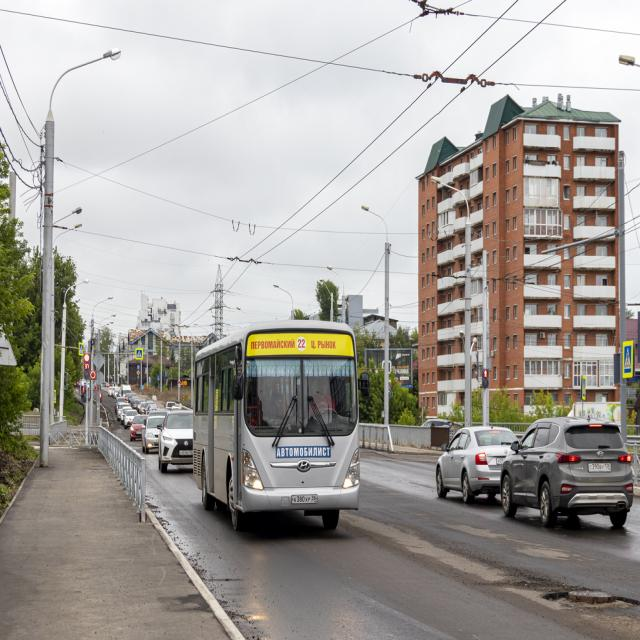number-of-bus: (297, 338, 308, 351)
